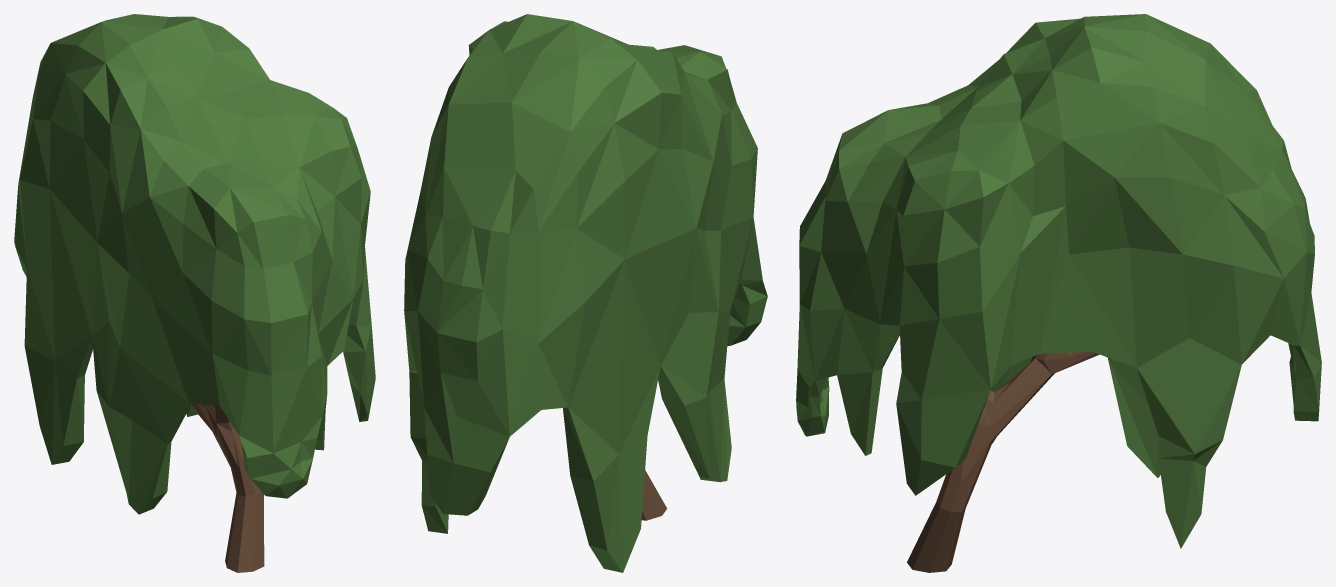
Rendered from Willow_1.glb.
3 renders of one model, left to right at view 1: azimuth 30°, elevation 25°; view 2: azimuth 150°, elevation 25°; view 3: azimuth 270°, elevation 25°, orthographic. The views are drawn at different scales.
Visible parts, largest first — view 1: Willow_1; view 2: Willow_1; view 3: Willow_1.
Boxes of the visible parts, x1,y1,x2,y2 form: Willow_1: (14,14,375,572); Willow_1: (404,14,767,572); Willow_1: (796,14,1321,572).
Size of the model in its own units: 1.45 by 2.85 by 2.55.
